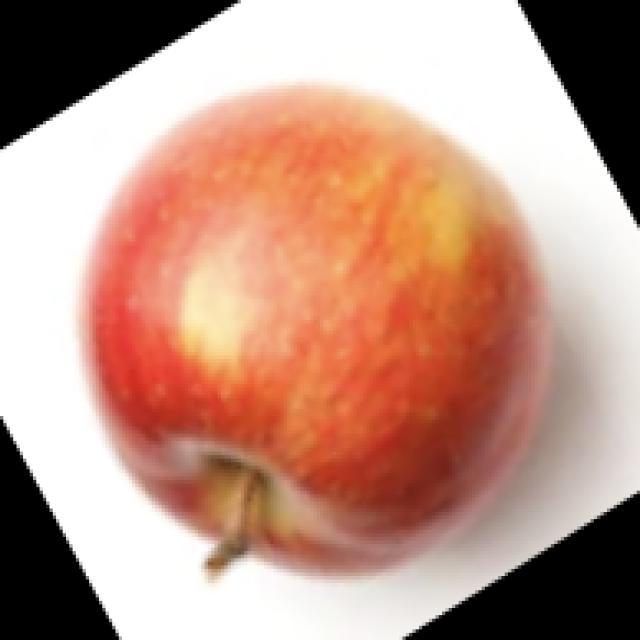Fresh Apple: (88, 78, 532, 560)
